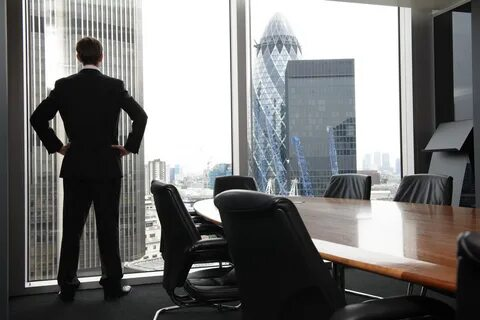awake: (30, 36, 151, 303)
